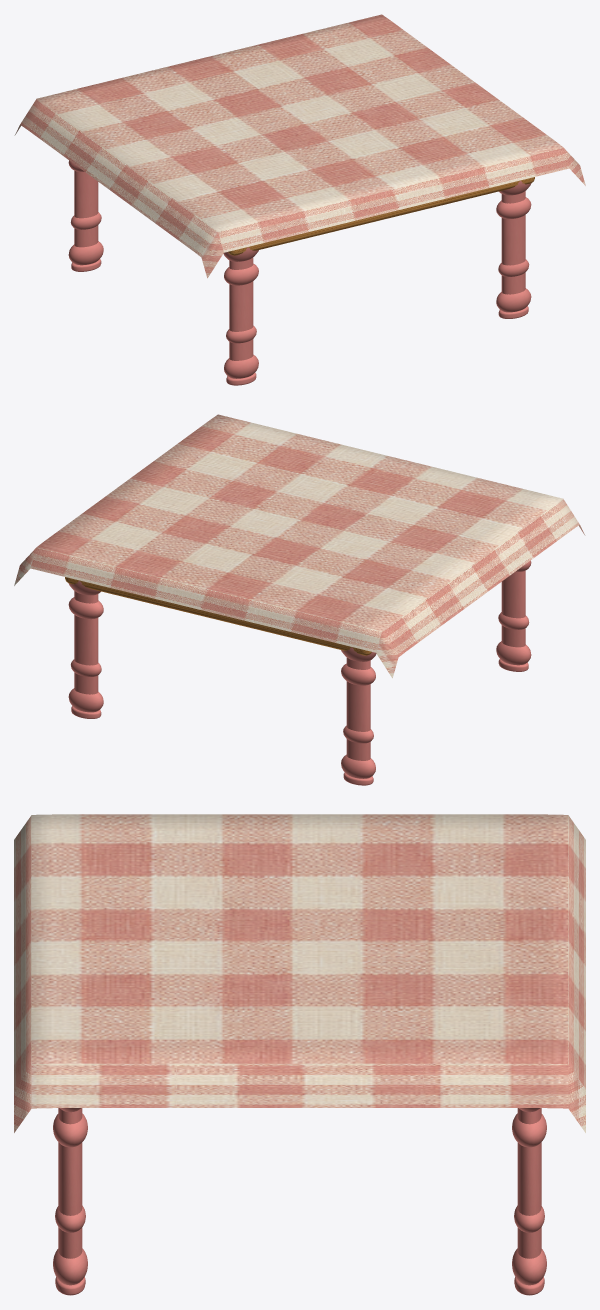
Rendered from SM_InteriorAdditions_DiningTable.fbx.
3 views of the same model, one above another, from view 1: azimuth 30°, elevation 25°; view 2: azimuth 150°, elevation 25°; view 3: azimuth 270°, elevation 25° (orthographic). The views are drawn at different scales.
Parts seen in each view (by area): view 1: SM_InteriorAdditions_DiningTable; view 2: SM_InteriorAdditions_DiningTable; view 3: SM_InteriorAdditions_DiningTable.
Boxes of the visible parts, box(x1,y1,x2,y2) form: SM_InteriorAdditions_DiningTable: box(14, 14, 585, 385); SM_InteriorAdditions_DiningTable: box(14, 414, 585, 785); SM_InteriorAdditions_DiningTable: box(14, 814, 585, 1295).
Size of what is drawn, in the model's own units: 149 by 131 by 63.22.
